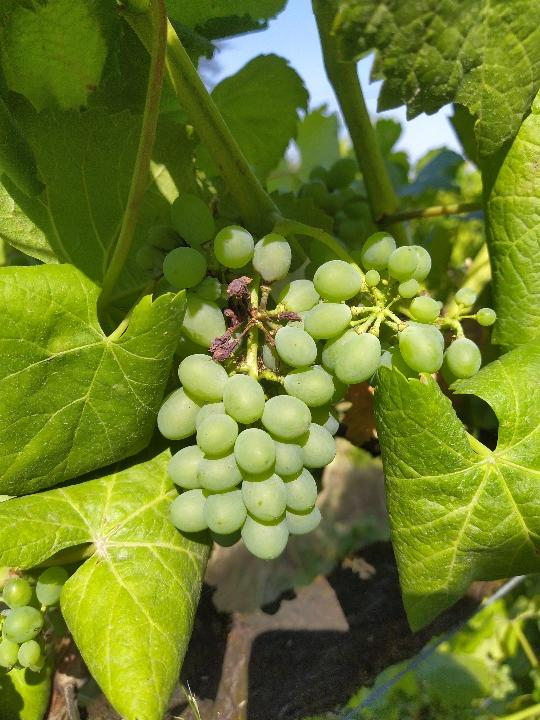grape: (133, 191, 500, 564)
